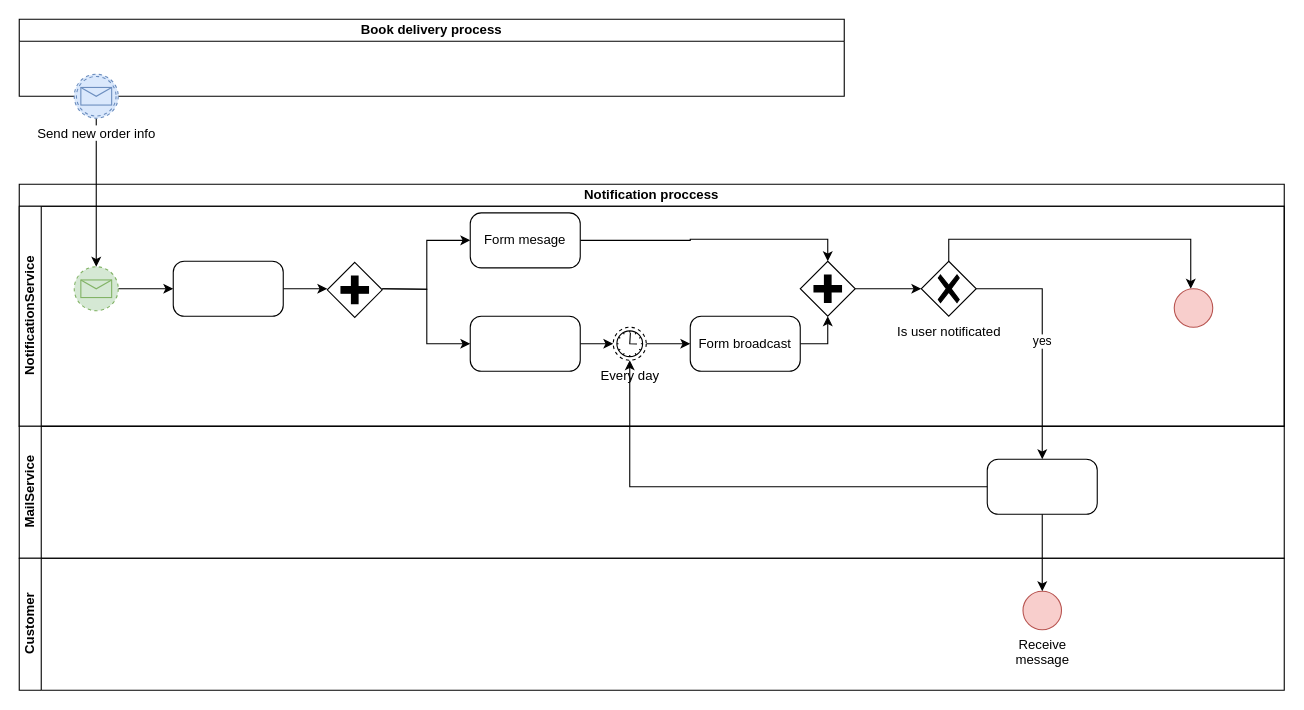
This 1304x710 diagram has some shape labels left out. The centre of each missing label's shape, as x and y in pixels:
"Add new info to storage" goes at (524,343).
"Get user info" goes at (227,288).
"Receive new order info" goes at (95,288).
"Send message by email" goes at (1041,486).
"User isn't notificated" goes at (1193,307).
